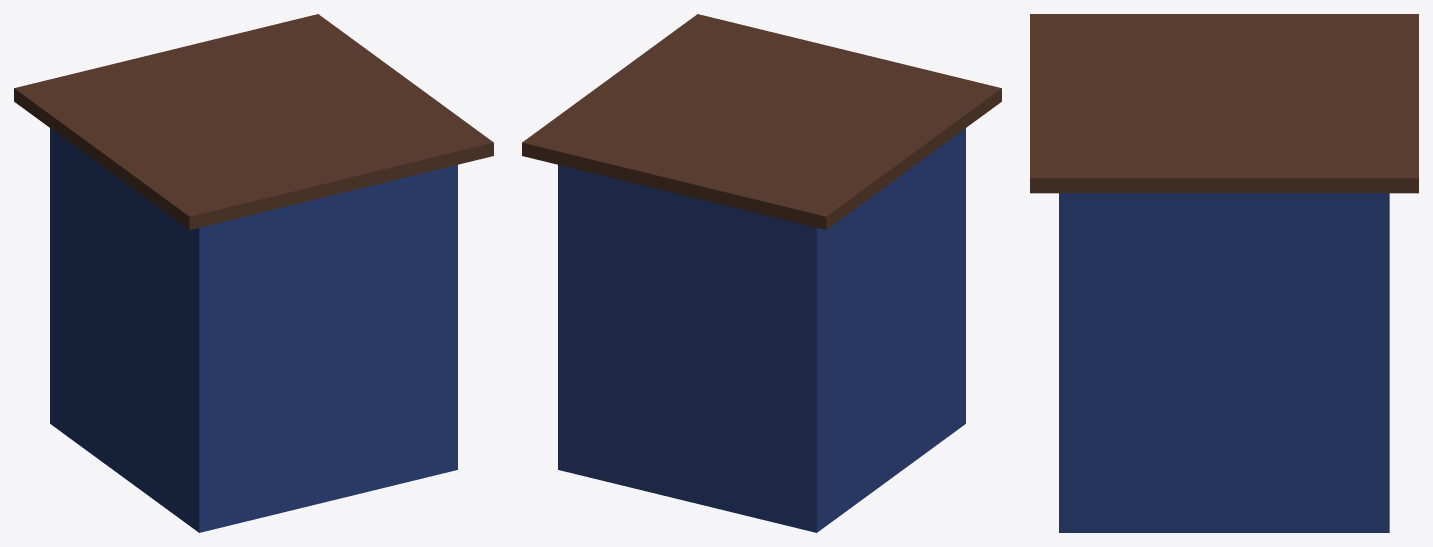
File: Connect_0_S.fbx
The picture shows the model from 3 angles, left to right: view 1: azimuth 30°, elevation 25°; view 2: azimuth 150°, elevation 25°; view 3: azimuth 270°, elevation 25°; orthographic projection. The views are drawn at different scales.
Visible parts, largest first — view 1: Cube_5, Cube_4; view 2: Cube_5, Cube_4; view 3: Cube_5, Cube_4.
Boxes of the visible parts, box(x1,y1,x2,y2) form: Cube_5: box(50, 128, 457, 532); Cube_4: box(14, 14, 493, 229); Cube_5: box(558, 128, 965, 532); Cube_4: box(522, 14, 1001, 229); Cube_5: box(1059, 193, 1389, 532); Cube_4: box(1030, 14, 1418, 193).
Bounding box in the file's own units: 200 × 208 × 200.
